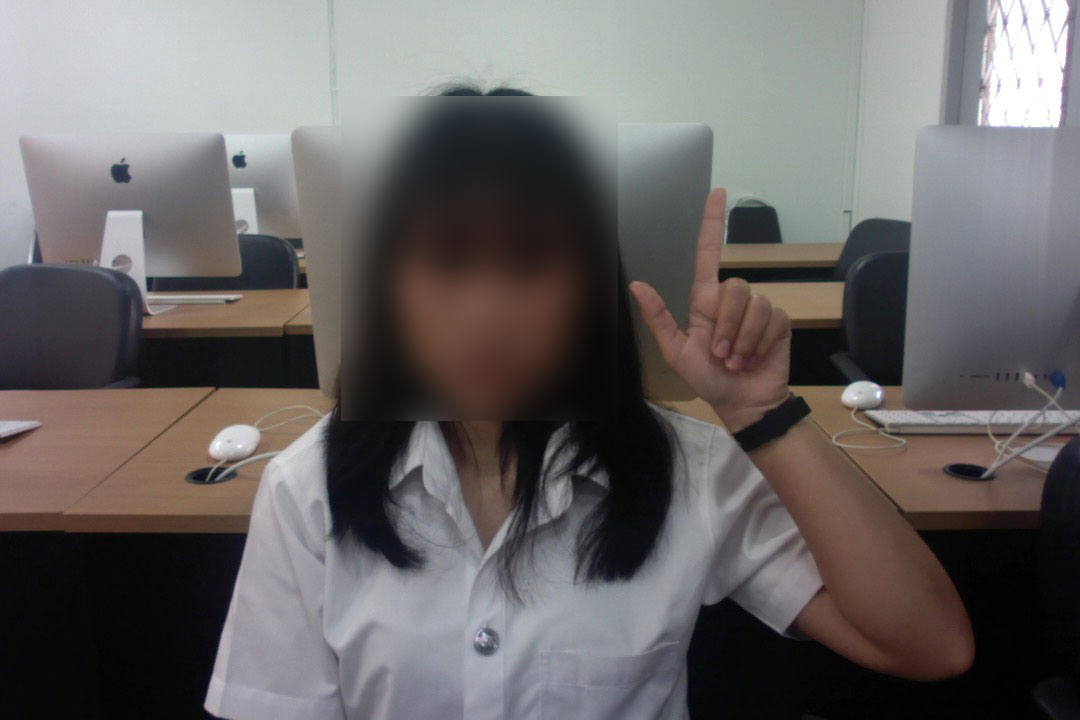lor: (613, 179, 824, 424)
